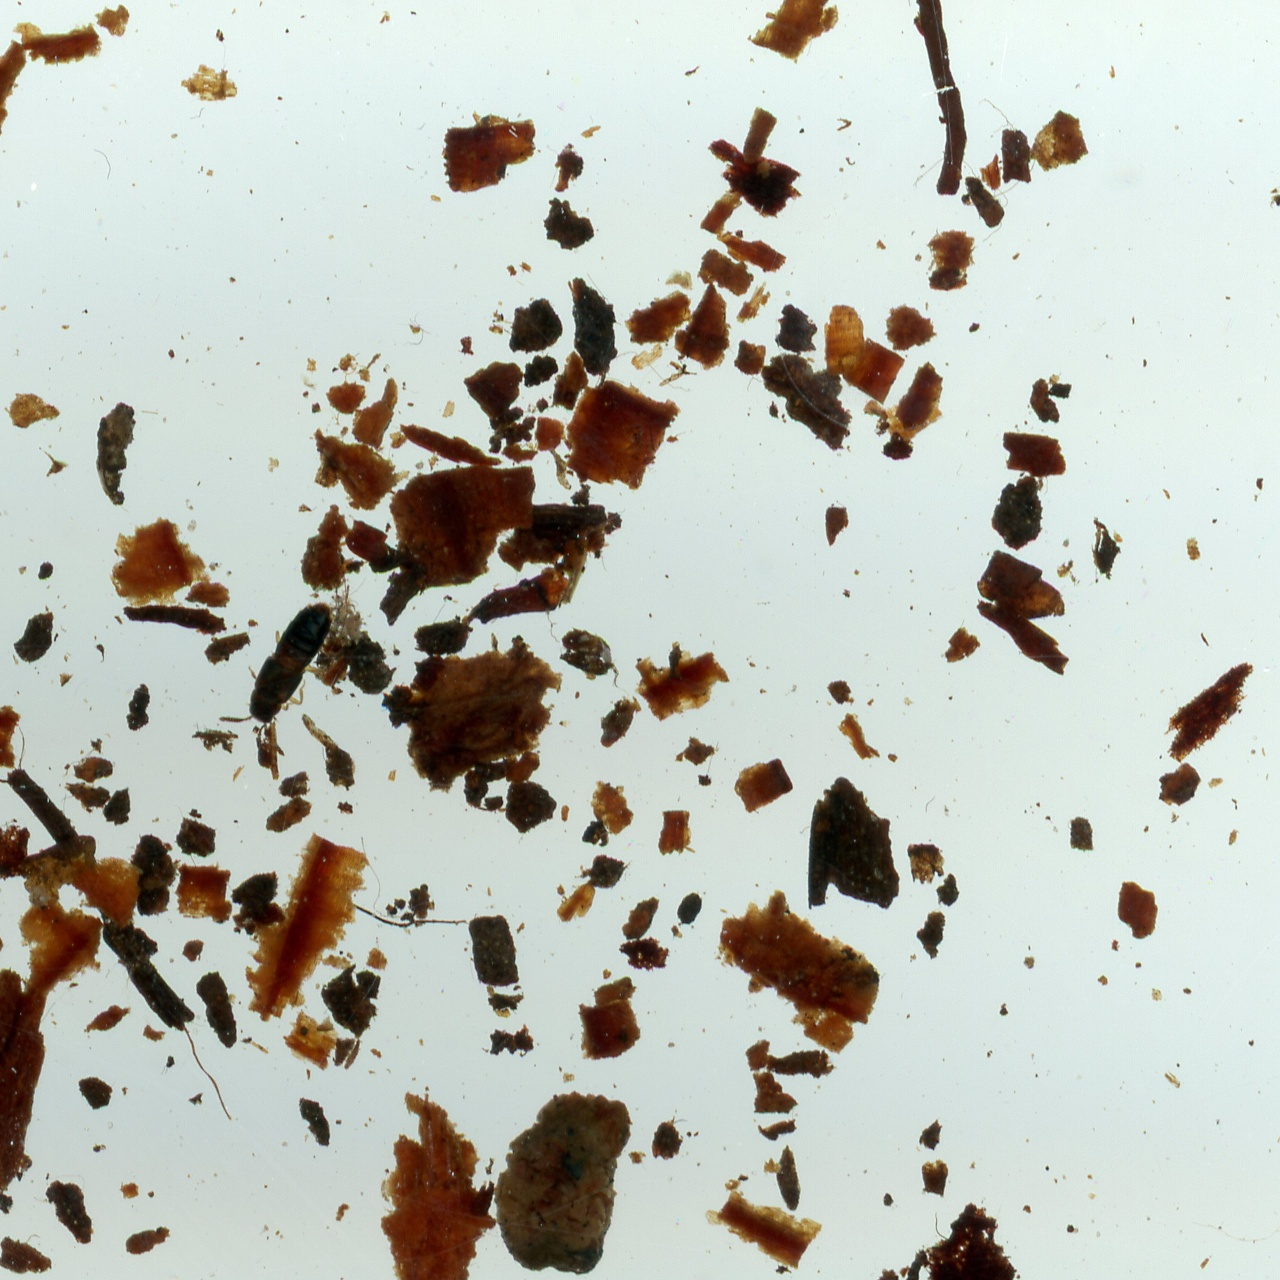arthropod: (215, 579, 353, 755)
